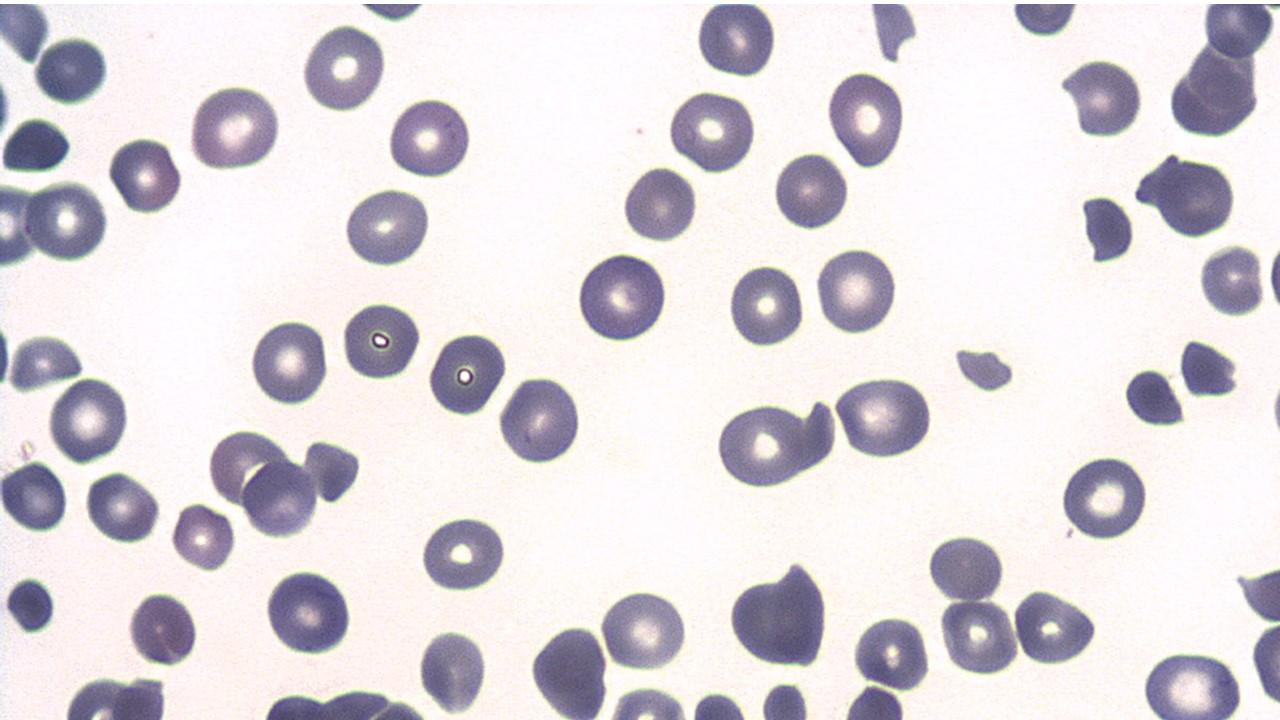Platelets: (416, 624, 492, 715), (1061, 56, 1145, 138), (692, 3, 778, 80), (622, 166, 701, 244), (31, 34, 114, 106), (126, 590, 202, 668), (1196, 240, 1268, 318), (1077, 194, 1137, 268), (1172, 336, 1240, 401), (2, 116, 77, 172), (1119, 368, 1185, 428), (3, 572, 59, 638), (947, 346, 1017, 394), (868, 4, 921, 64), (1007, 4, 1085, 39), (760, 678, 814, 718), (353, 2, 427, 23), (0, 318, 13, 393), (1268, 374, 1280, 450)
RBC: (574, 248, 670, 346), (832, 372, 936, 460), (187, 79, 285, 172), (714, 399, 812, 488), (263, 563, 353, 658), (825, 67, 908, 169), (496, 370, 582, 468), (301, 19, 388, 115), (1057, 452, 1149, 542), (526, 620, 610, 716), (597, 586, 690, 672), (815, 242, 898, 338), (666, 86, 758, 172), (248, 314, 330, 410), (384, 94, 474, 181), (1137, 647, 1247, 718), (47, 373, 130, 466), (23, 176, 110, 264), (342, 184, 431, 269), (424, 328, 507, 419), (416, 512, 508, 594), (339, 295, 424, 383), (1010, 584, 1100, 666), (1063, 54, 1145, 141), (726, 261, 806, 350), (416, 623, 490, 715), (771, 147, 850, 233), (207, 426, 288, 509), (939, 594, 1019, 678), (696, 0, 778, 79), (622, 161, 700, 244), (107, 132, 184, 216), (852, 611, 930, 692), (242, 457, 318, 540), (126, 586, 200, 670), (32, 31, 112, 108), (84, 467, 160, 546), (925, 530, 1008, 602), (1197, 240, 1265, 319), (170, 498, 238, 574), (1, 458, 68, 534), (1200, 3, 1276, 60), (2, 114, 76, 170), (0, 182, 43, 267), (608, 682, 690, 718), (1249, 612, 1279, 708), (841, 682, 911, 718), (688, 688, 750, 718)
WBC: (724, 556, 832, 670), (1165, 40, 1265, 140), (1144, 152, 1240, 240), (528, 618, 610, 720), (1010, 582, 1100, 670), (1141, 647, 1249, 718), (125, 588, 200, 669), (1173, 336, 1243, 400), (1, 114, 75, 173), (1122, 365, 1186, 431)
